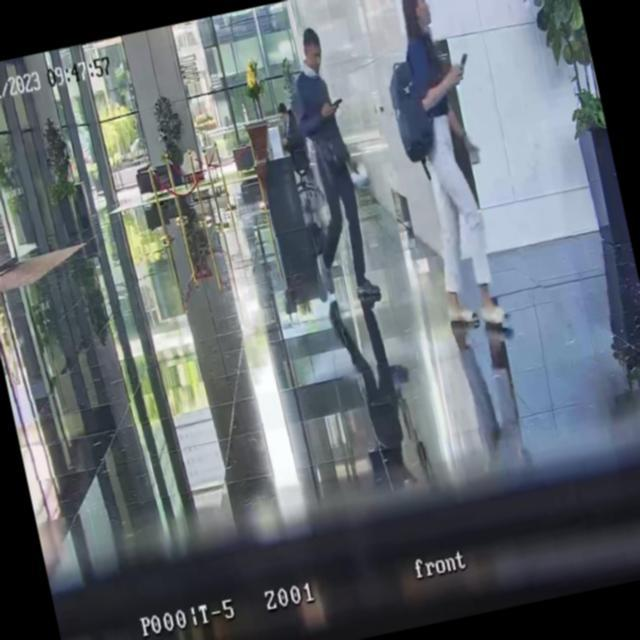person: (378, 0, 520, 337), (266, 22, 386, 314), (274, 98, 304, 164)
